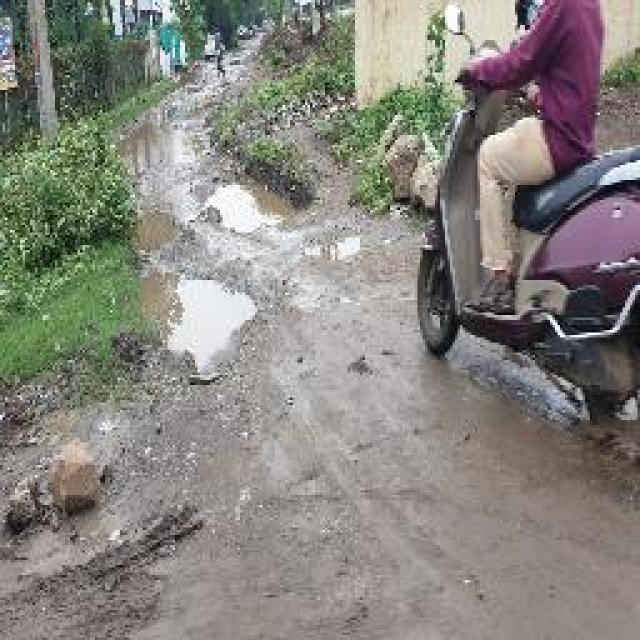puddle: (142, 274, 258, 368), (204, 176, 306, 238), (118, 122, 211, 179)
